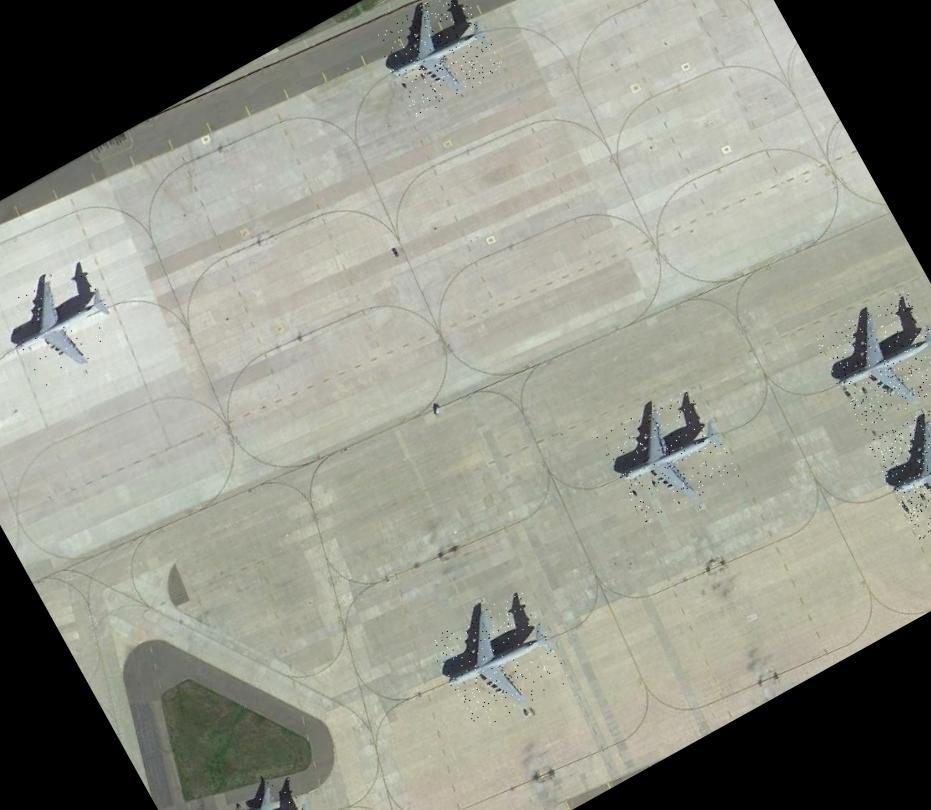A3: (216, 773, 327, 810)
A4: (426, 589, 570, 732), (596, 385, 740, 527), (811, 286, 931, 431), (0, 257, 127, 391), (369, 0, 505, 118), (864, 389, 931, 541)
